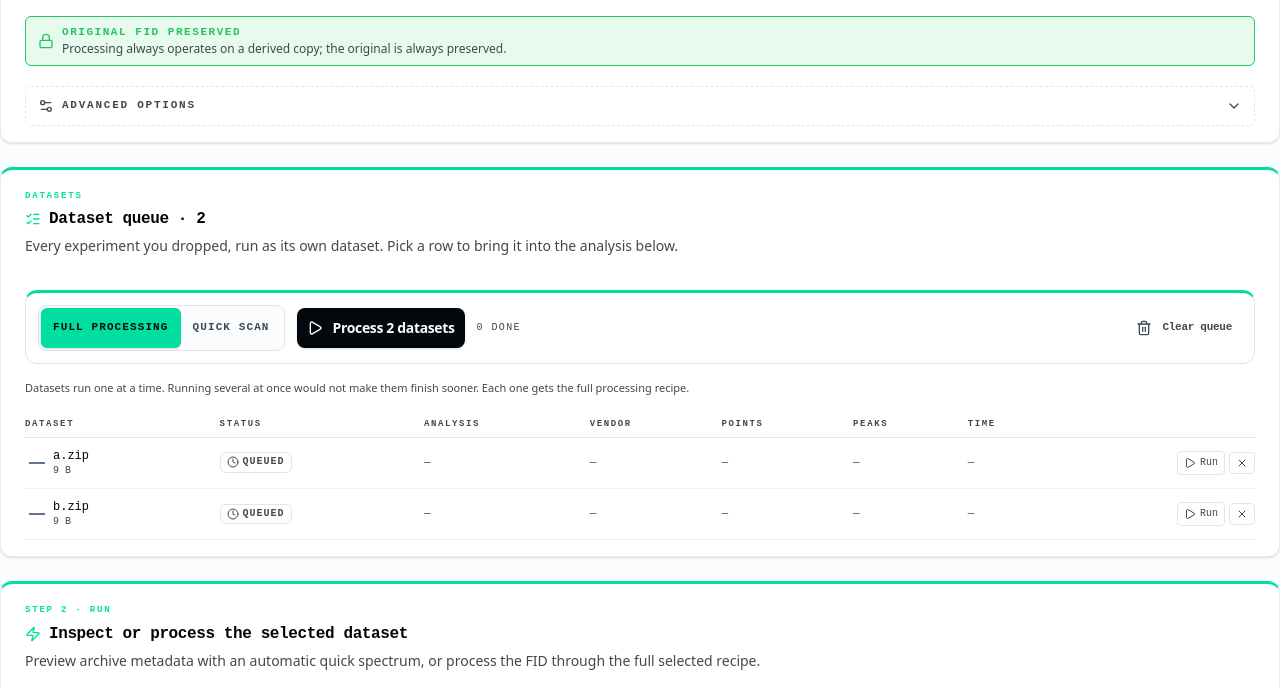
Test: queueing several datasets › empties the queue on demand
The width and height of the screenshot is (1280, 688).
Earlier steps of the test are not shown.
(page scrolled)
Click the button with test id "raw-fid-queue-clear" at (1184, 328), box x1=1126 y1=308 x2=1242 y2=348
(page scrolled)
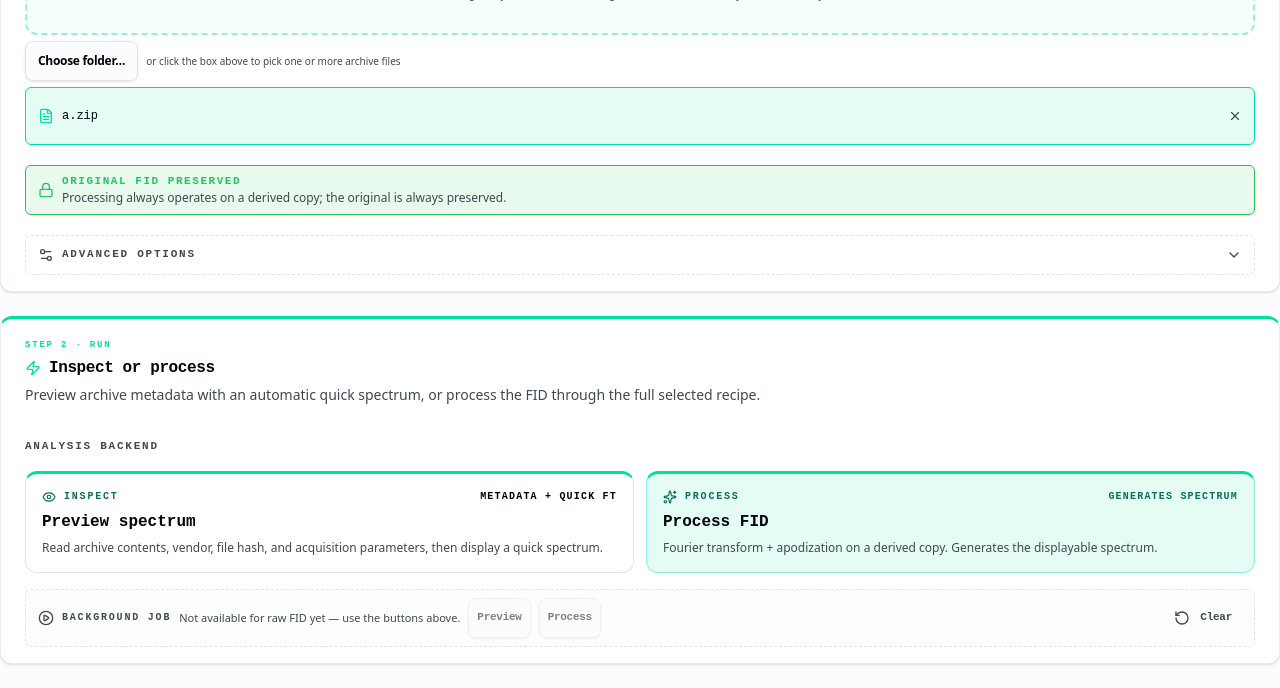
Check: the element with test id "raw-fid-queue" is gone
